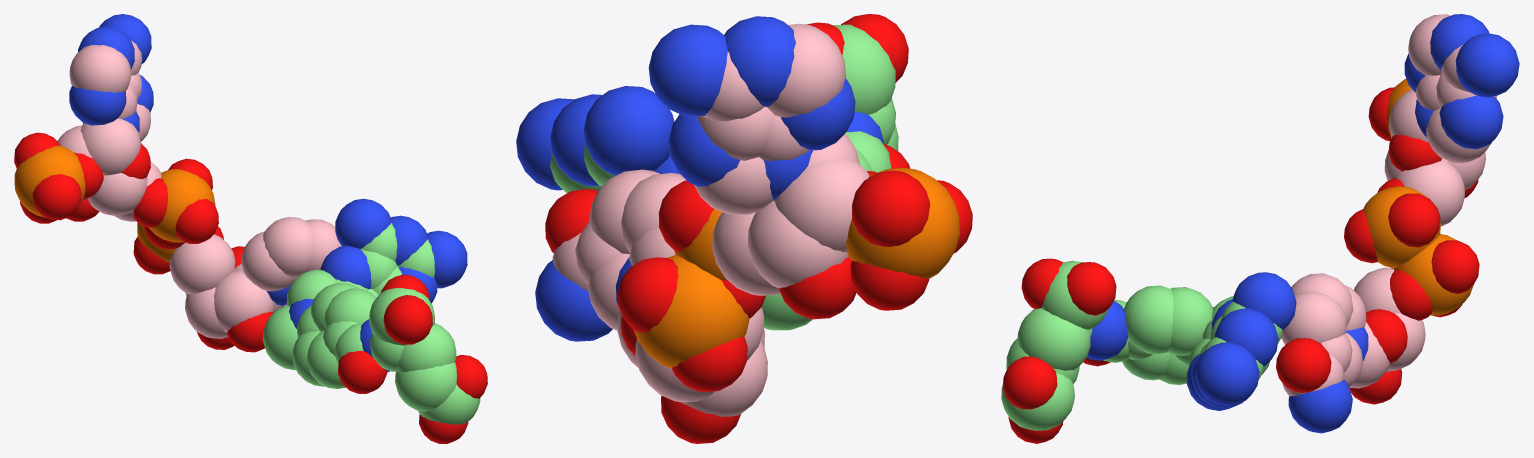
File: MTX + NADPH.dae
The picture shows the model from 3 angles, left to right: view 1: azimuth 30°, elevation 25°; view 2: azimuth 150°, elevation 25°; view 3: azimuth 270°, elevation 25°; orthographic projection. The views are drawn at different scales.
Parts seen in each view (by area): view 1: subnode_27, subnode_19, subnode_11, subnode_44, subnode_42, subnode_32, subnode_77, subnode_0, subnode_53, subnode_75, subnode_76, subnode_45 (+37 smaller); view 2: subnode_23, subnode_53, subnode_17, subnode_9, subnode_44, subnode_46, subnode_7, subnode_18, subnode_19, subnode_40, subnode_73, subnode_24 (+36 smaller); view 3: subnode_50, subnode_17, subnode_76, subnode_68, subnode_14, subnode_41, subnode_0, subnode_39, subnode_40, subnode_4, subnode_53, subnode_80 (+36 smaller).
Boxes of the visible parts, x1,y1,x2,y2 form: subnode_27: (169, 234, 235, 294); subnode_19: (69, 45, 131, 92); subnode_11: (80, 118, 140, 175); subnode_44: (14, 145, 85, 217); subnode_42: (263, 217, 313, 277); subnode_32: (214, 271, 273, 332); subnode_77: (395, 362, 456, 411); subnode_0: (149, 169, 215, 242); subnode_53: (335, 198, 391, 248); subnode_75: (383, 295, 432, 344); subnode_76: (396, 323, 456, 372); subnode_45: (32, 174, 81, 220); subnode_23: (634, 255, 749, 368); subnode_53: (583, 86, 674, 175); subnode_17: (648, 24, 727, 116); subnode_9: (774, 157, 869, 252); subnode_44: (846, 168, 959, 278); subnode_46: (852, 170, 930, 246); subnode_7: (747, 200, 848, 288); subnode_18: (724, 16, 795, 106); subnode_19: (767, 23, 845, 117); subnode_40: (535, 260, 612, 341); subnode_73: (833, 24, 895, 114); subnode_24: (618, 257, 678, 332); subnode_50: (1195, 342, 1259, 406); subnode_17: (1455, 33, 1519, 97); subnode_76: (1017, 308, 1090, 370); subnode_68: (1123, 285, 1173, 354); subnode_14: (1439, 96, 1503, 149); subnode_41: (1281, 291, 1346, 344); subnode_0: (1362, 186, 1440, 268); subnode_39: (1276, 338, 1331, 392); subnode_40: (1288, 379, 1352, 433); subnode_4: (1395, 161, 1464, 226); subnode_53: (1232, 272, 1296, 330); subnode_80: (1002, 356, 1057, 409).
Size of the model in its own units: 23.21 by 19.26 by 26.28.
